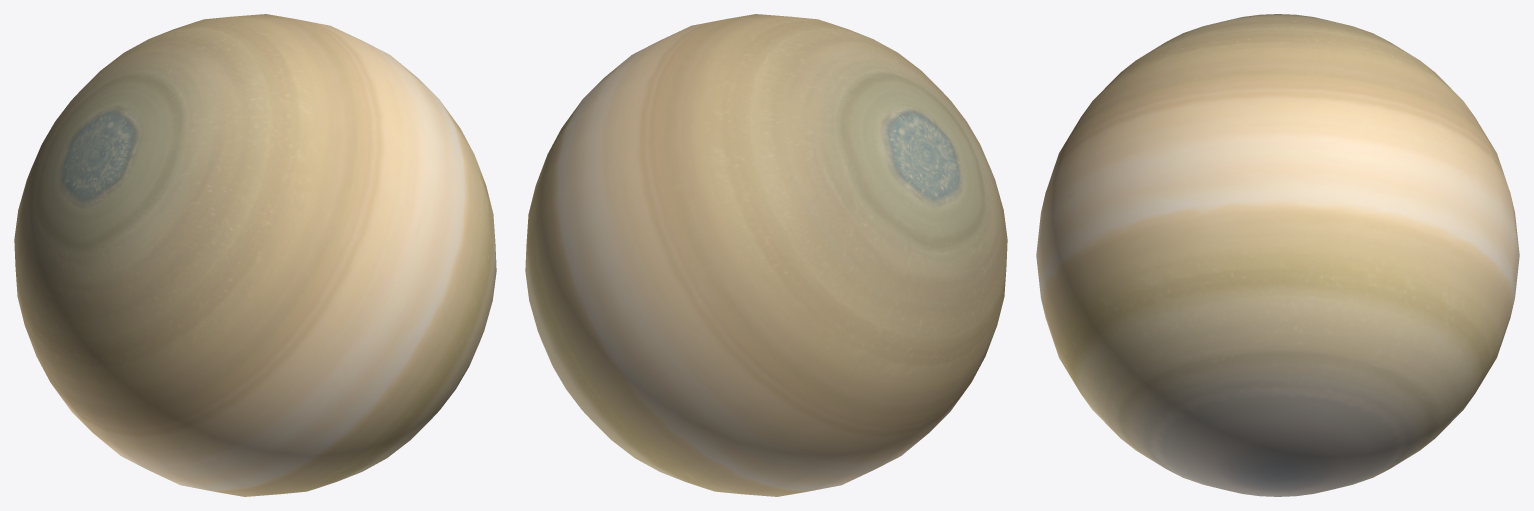
File: saturn.glb
The picture shows the model from 3 angles, left to right: view 1: azimuth 30°, elevation 25°; view 2: azimuth 150°, elevation 25°; view 3: azimuth 270°, elevation 25°; orthographic projection.
Parts seen in each view (by area): view 1: saturn.001; view 2: saturn.001; view 3: saturn.001.
Boxes of the visible parts, x1,y1,x2,y2 form: saturn.001: (14, 14, 496, 496); saturn.001: (525, 14, 1007, 496); saturn.001: (1036, 14, 1519, 496).
Bounding box in the file's own units: 3.03 × 3.03 × 3.04.
Materials: 1 (1 with a texture image).
